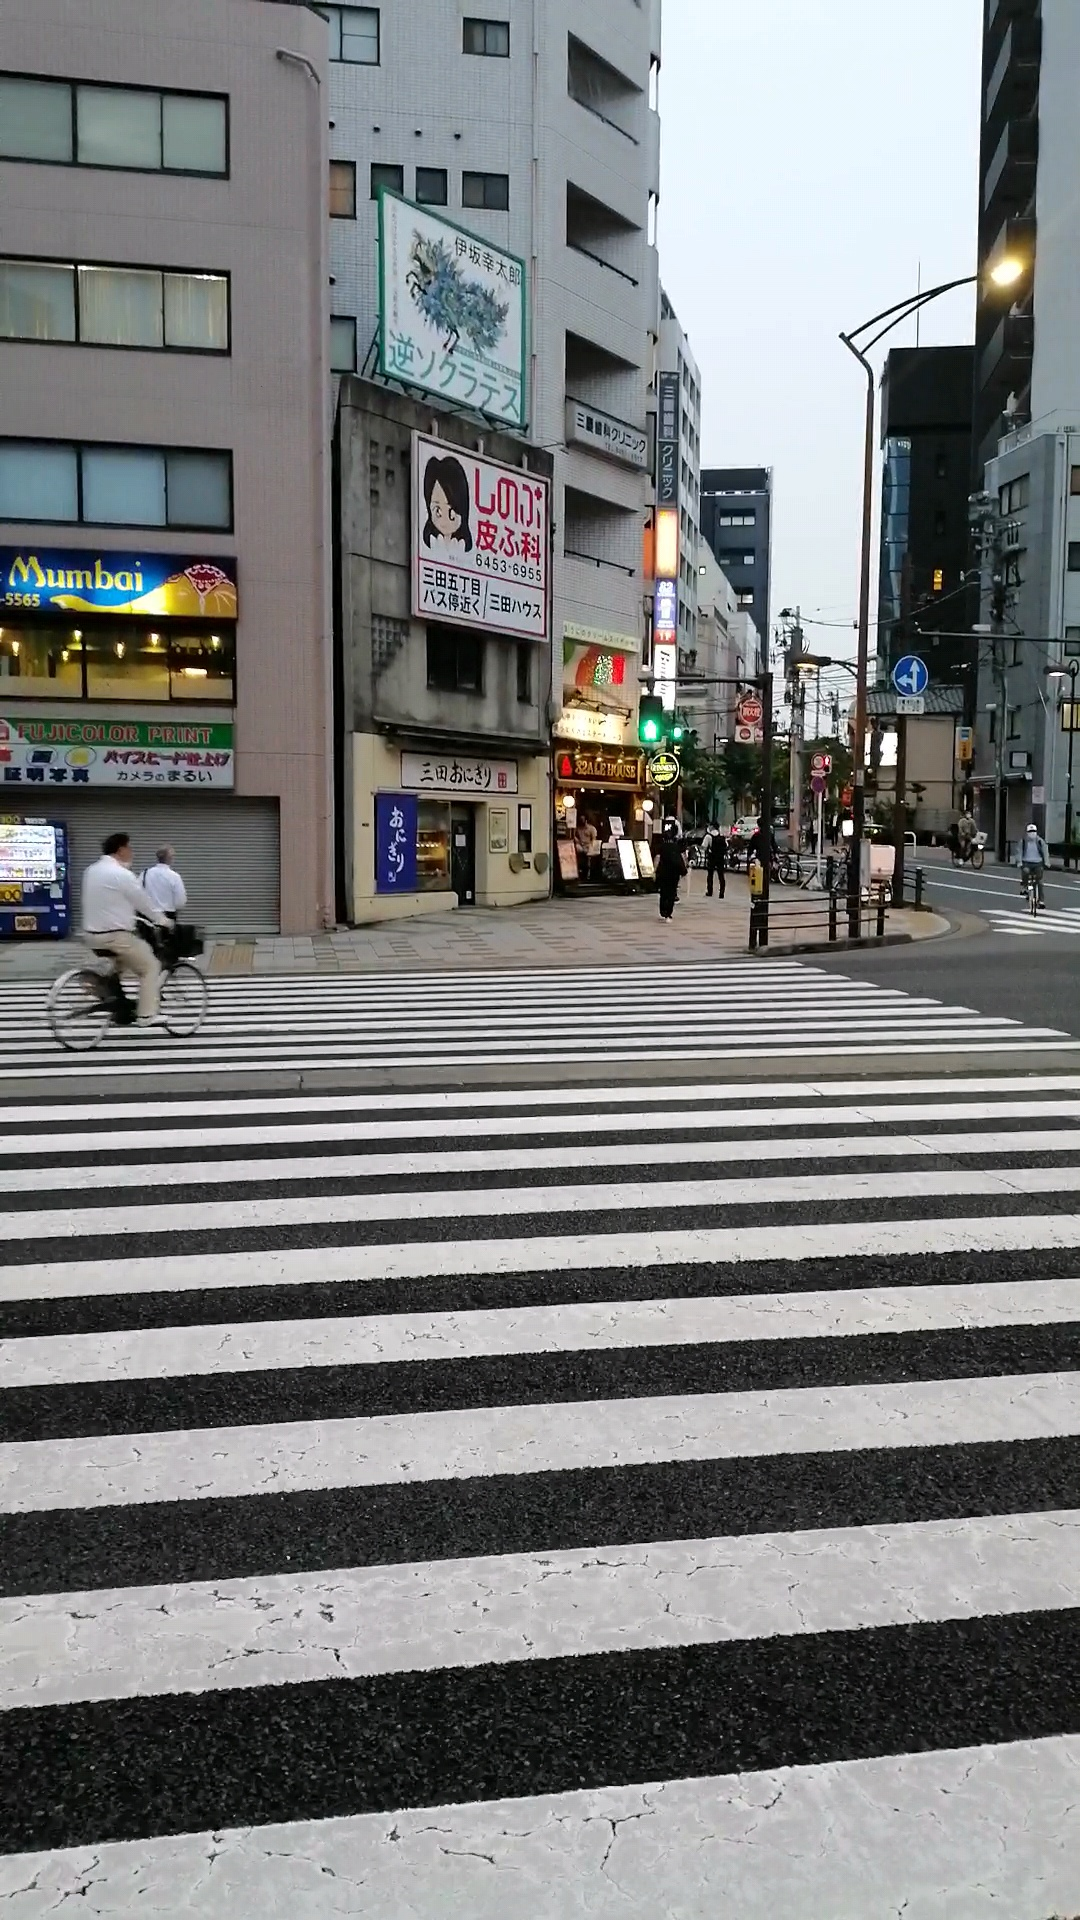green: (638, 695, 665, 744)
